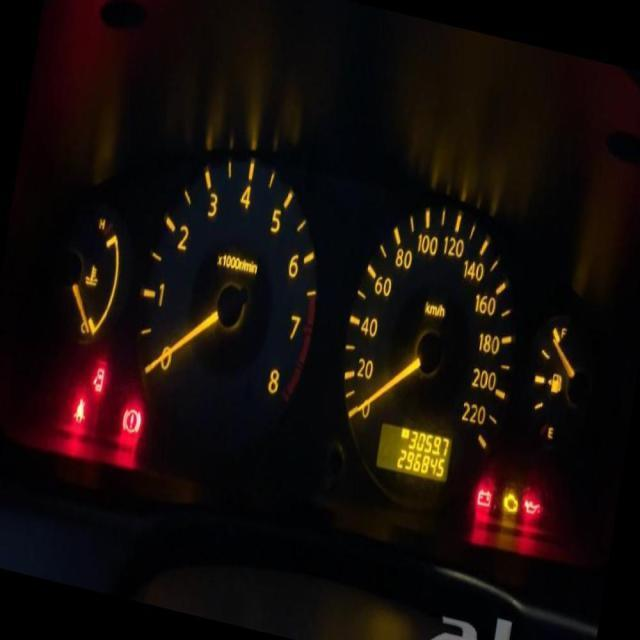Seat Belt: (74, 399, 86, 422)
